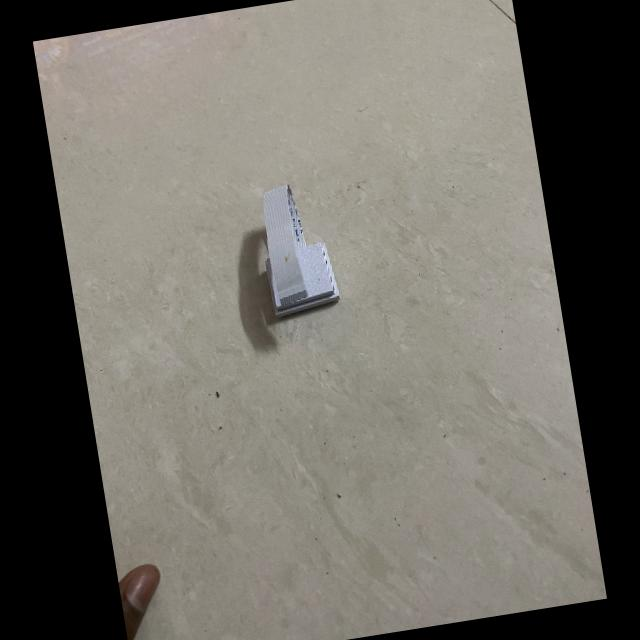RASPBERY PI CAM ENCLOSURE: (253, 178, 342, 318)
